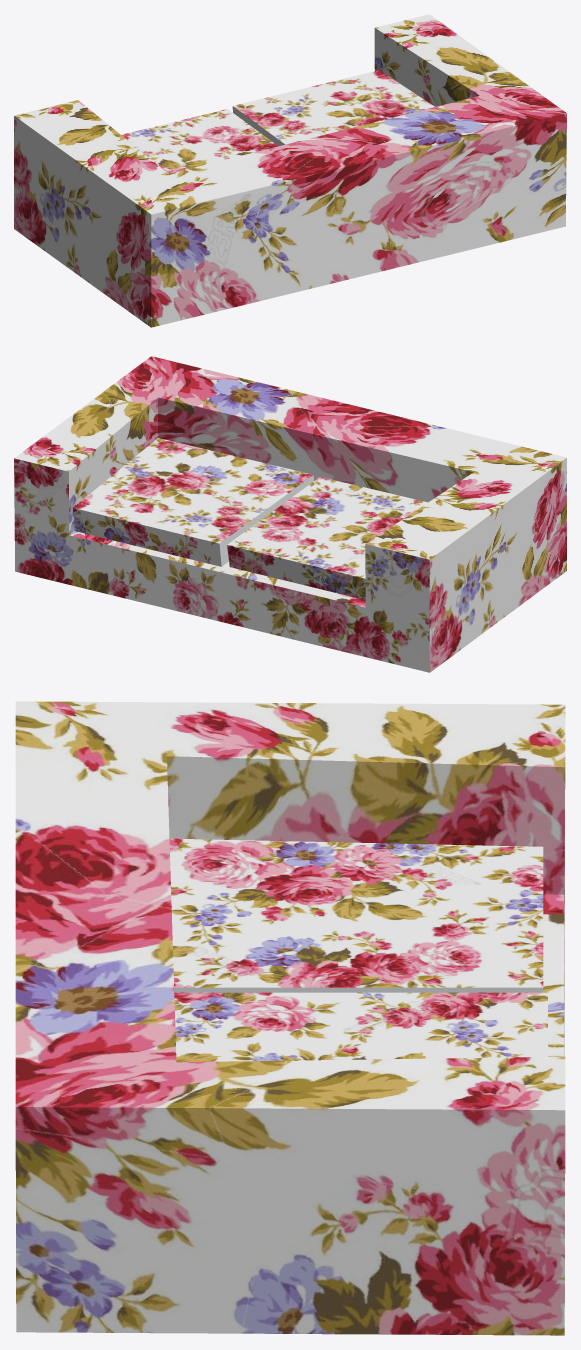
The model's file is couch.obj.
3 renders of one model, top to bottom at view 1: azimuth 30°, elevation 25°; view 2: azimuth 150°, elevation 25°; view 3: azimuth 270°, elevation 25°, orthographic. The views are drawn at different scales.
Parts seen in each view (by area): view 1: Cube; view 2: Cube; view 3: Cube.
Boxes of the visible parts, x1,y1,x2,y2 form: Cube: (14, 14, 566, 327); Cube: (14, 356, 566, 672); Cube: (15, 701, 565, 1335).
Bounding box in the file's own units: 3.8 × 1 × 2.17.
